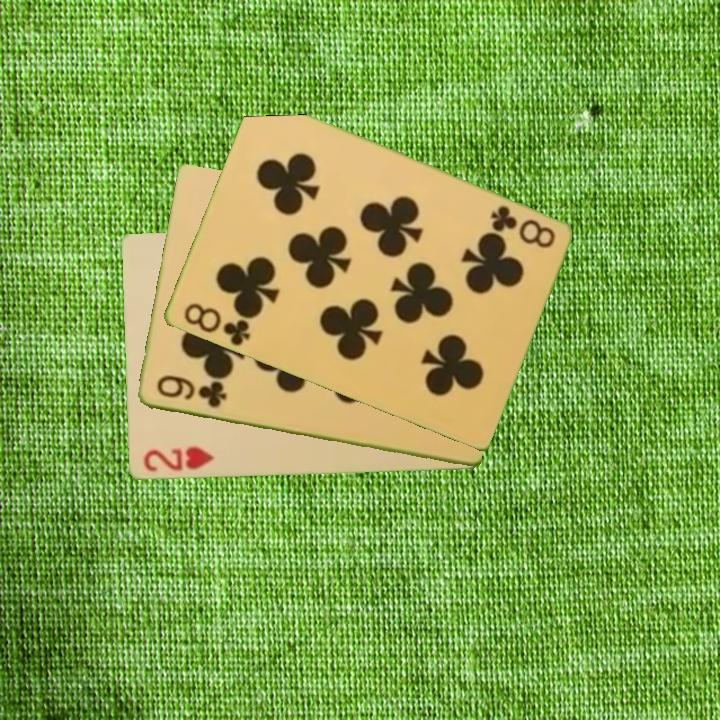2h: (140, 443, 217, 475)
8c: (179, 299, 253, 349), (486, 202, 558, 252)
9c: (152, 372, 230, 411)
